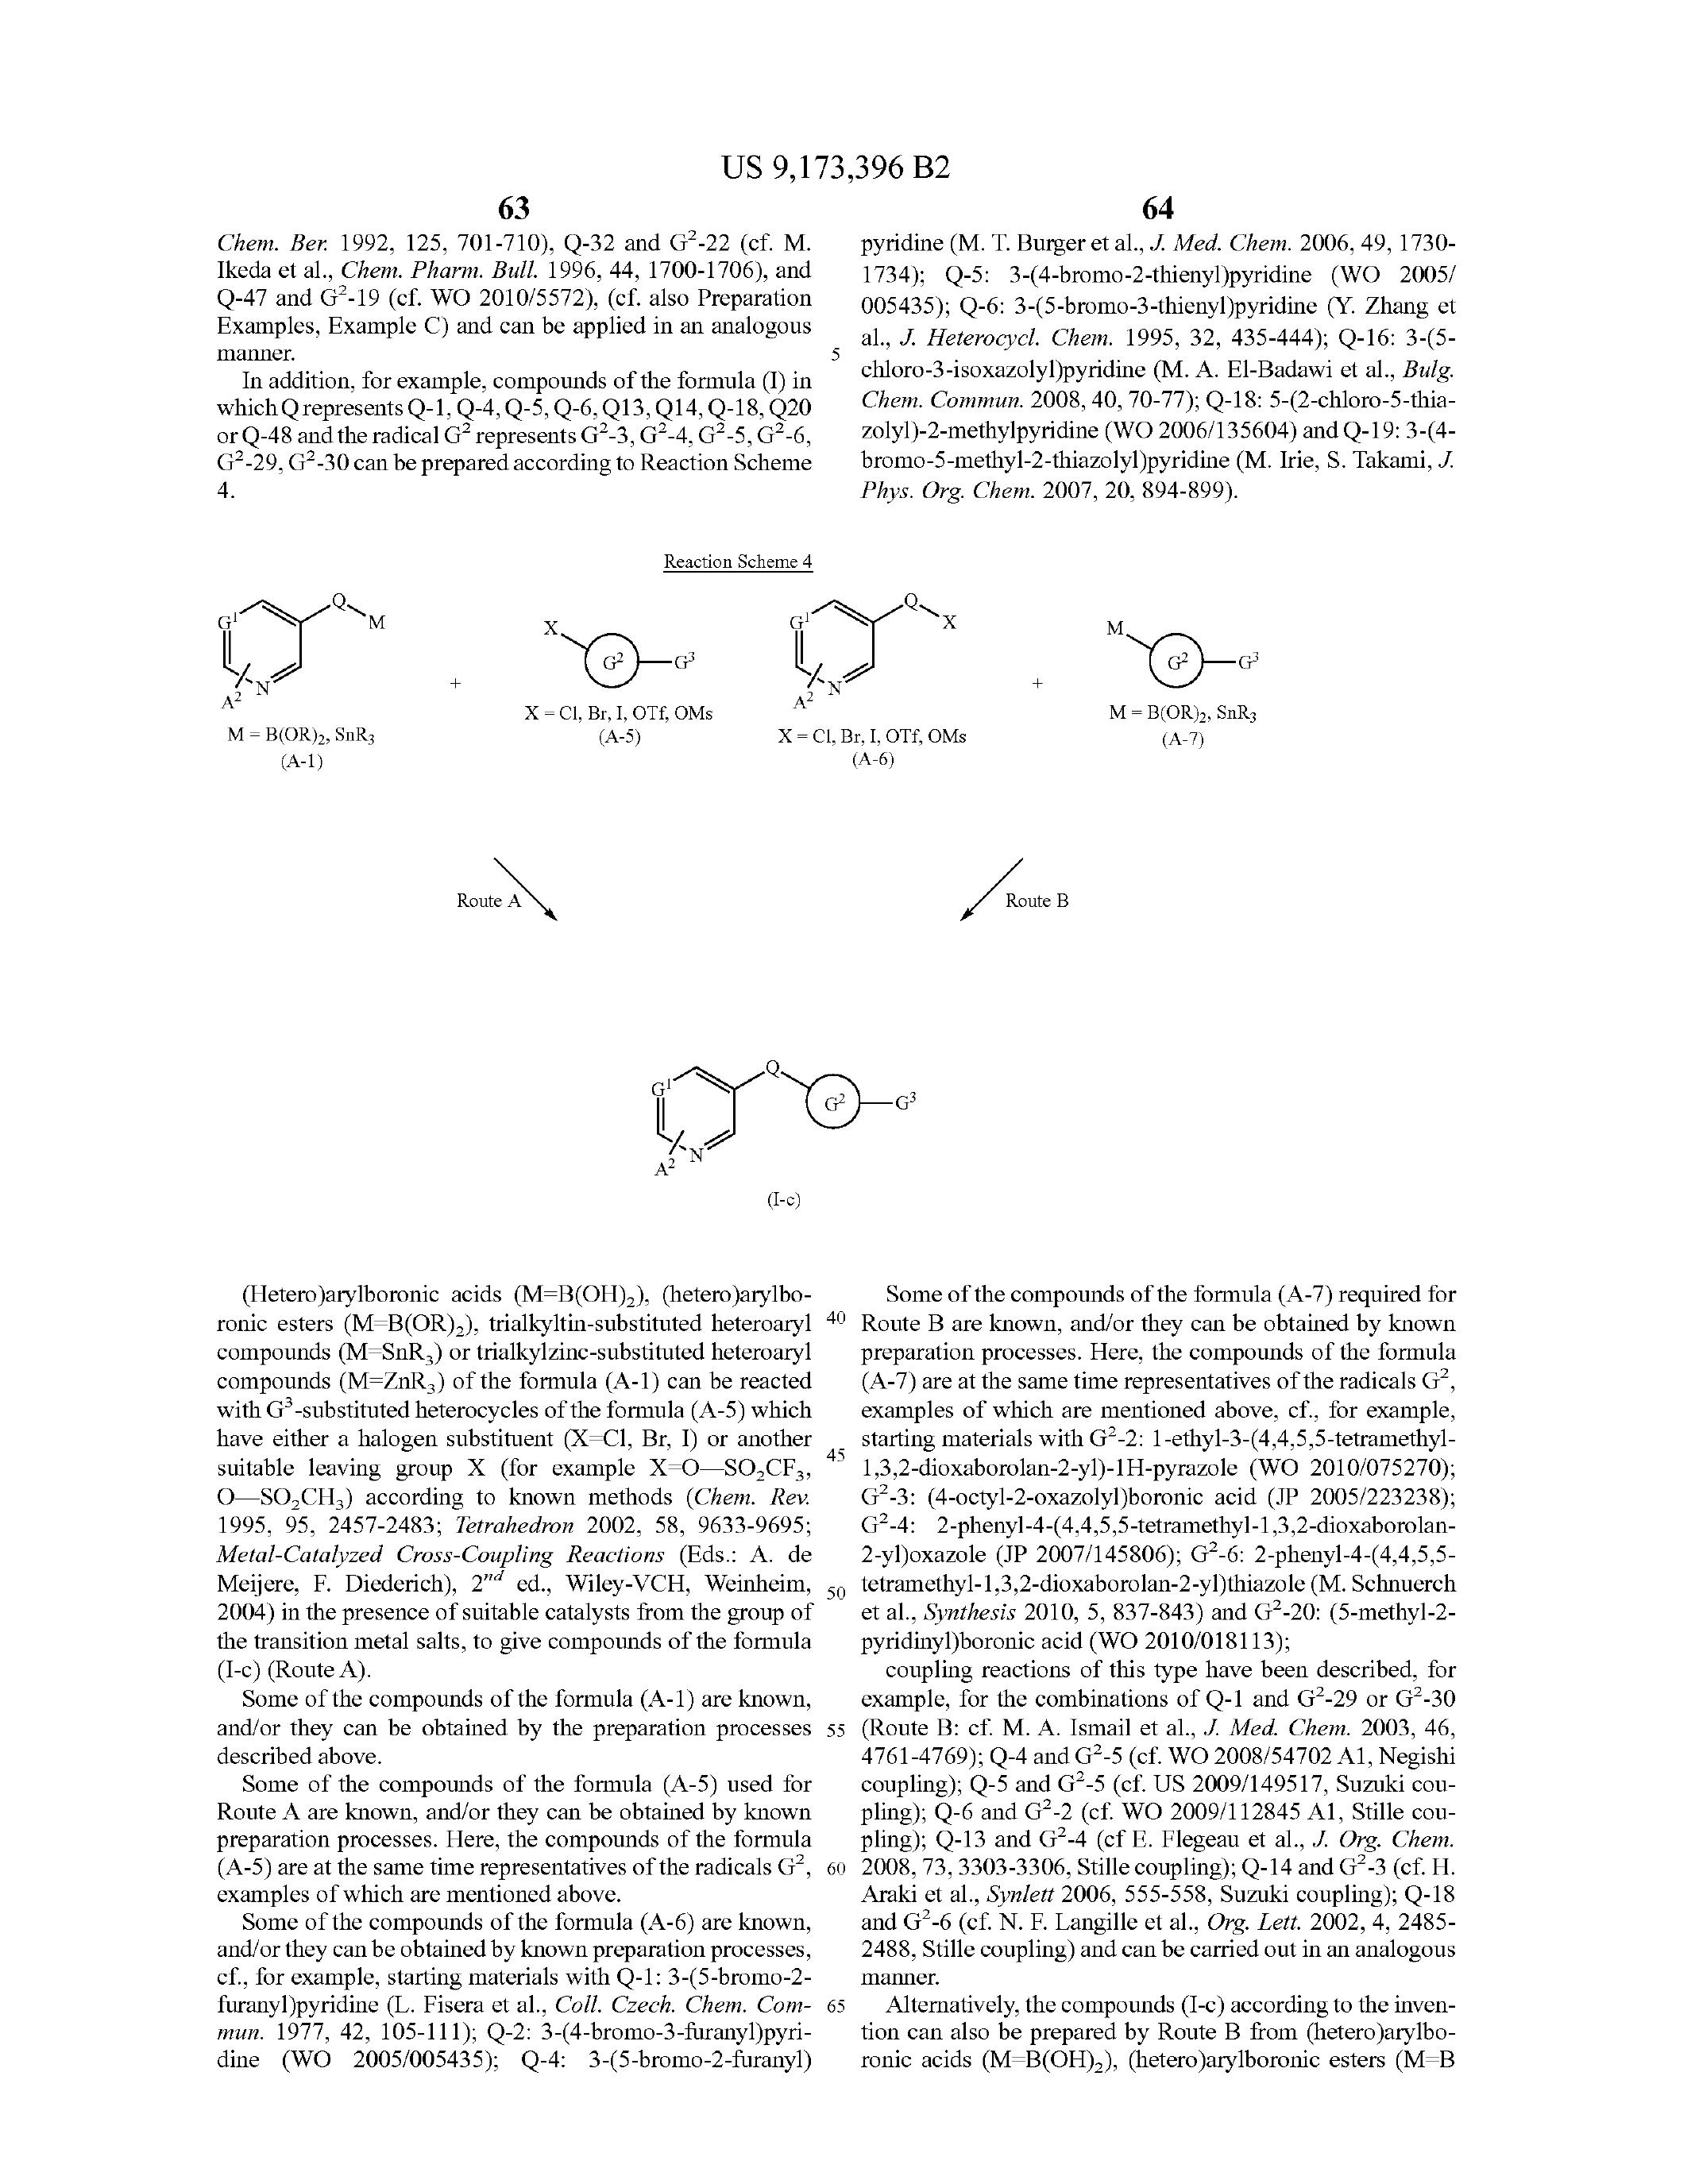reactions: (174, 523, 1353, 1188)
